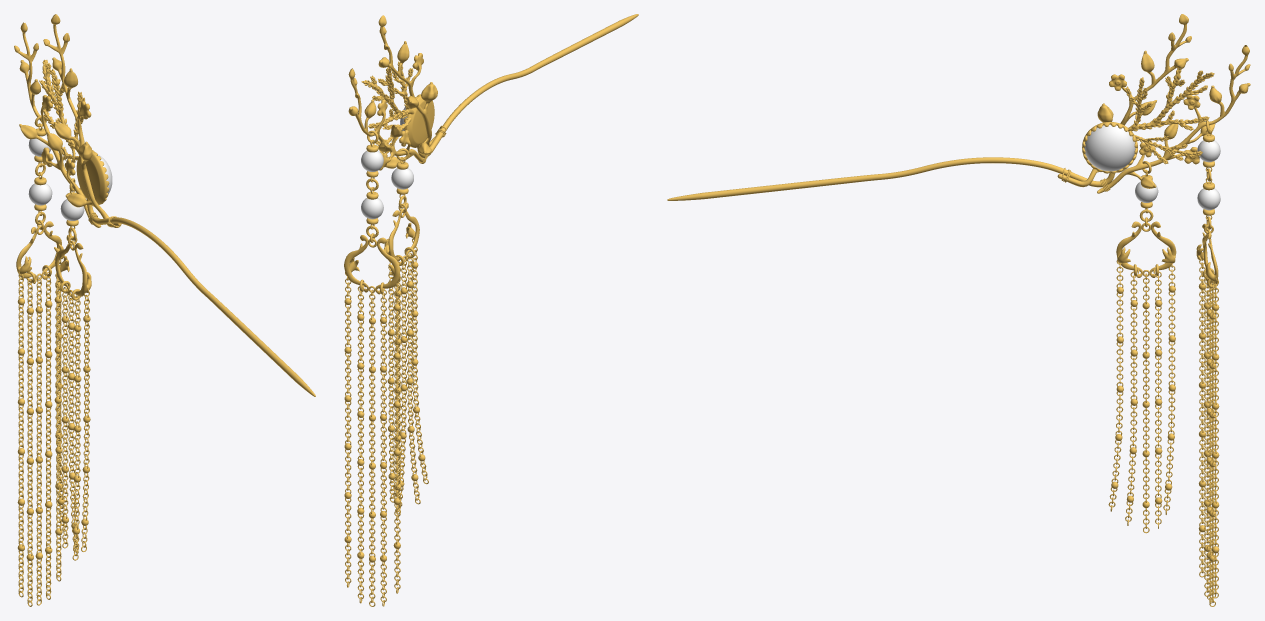
File: chinese_hairpin.glb
3 views of the same model, side by side, from view 1: azimuth 30°, elevation 25°; view 2: azimuth 150°, elevation 25°; view 3: azimuth 270°, elevation 25° (orthographic). The views are drawn at different scales.
Parts seen in each view (by area): view 1: Object_16, Object_32, Object_27, Object_3, Object_39, Object_2, Object_26, Object_7, Object_33, Object_34, Object_35, Object_38 (+14 smaller); view 2: Object_16, Object_32, Object_27, Object_3, Object_39, Object_2, Object_26, Object_7, Object_33, Object_34, Object_38, Object_8 (+15 smaller); view 3: Object_16, Object_39, Object_27, Object_32, Object_3, Object_2, Object_30.
Boxes of the visible parts, x1=… form: Object_16: x1=42, y1=60, x2=315, y2=396; Object_32: x1=43, y1=14, x2=121, y2=227; Object_27: x1=14, y1=22, x2=101, y2=227; Object_3: x1=17, y1=109, x2=81, y2=560; Object_39: x1=28, y1=134, x2=112, y2=220; Object_2: x1=26, y1=217, x2=90, y2=553; Object_26: x1=76, y1=150, x2=109, y2=204; Object_7: x1=27, y1=363, x2=61, y2=606; Object_33: x1=18, y1=281, x2=41, y2=530; Object_34: x1=18, y1=294, x2=32, y2=456; Object_35: x1=27, y1=115, x2=77, y2=531; Object_38: x1=27, y1=271, x2=51, y2=539; Object_16: x1=363, y1=14, x2=638, y2=158; Object_32: x1=378, y1=15, x2=437, y2=155; Object_27: x1=348, y1=68, x2=423, y2=170; Object_3: x1=344, y1=76, x2=418, y2=562; Object_39: x1=361, y1=107, x2=413, y2=219; Object_2: x1=344, y1=134, x2=444, y2=558; Object_26: x1=404, y1=94, x2=434, y2=147; Object_7: x1=345, y1=373, x2=386, y2=606; Object_33: x1=369, y1=294, x2=400, y2=528; Object_34: x1=380, y1=300, x2=400, y2=460; Object_38: x1=357, y1=286, x2=386, y2=541; Object_8: x1=368, y1=237, x2=404, y2=582; Object_16: x1=667, y1=69, x2=1213, y2=200; Object_39: x1=1084, y1=124, x2=1220, y2=210; Object_27: x1=1097, y1=45, x2=1250, y2=193; Object_32: x1=1057, y1=14, x2=1191, y2=187; Object_3: x1=1126, y1=283, x2=1219, y2=558; Object_2: x1=1111, y1=285, x2=1219, y2=561; Object_30: x1=1168, y1=257, x2=1218, y2=532.
Size of the model in its own units: 2.26 by 25.16 by 22.49.
